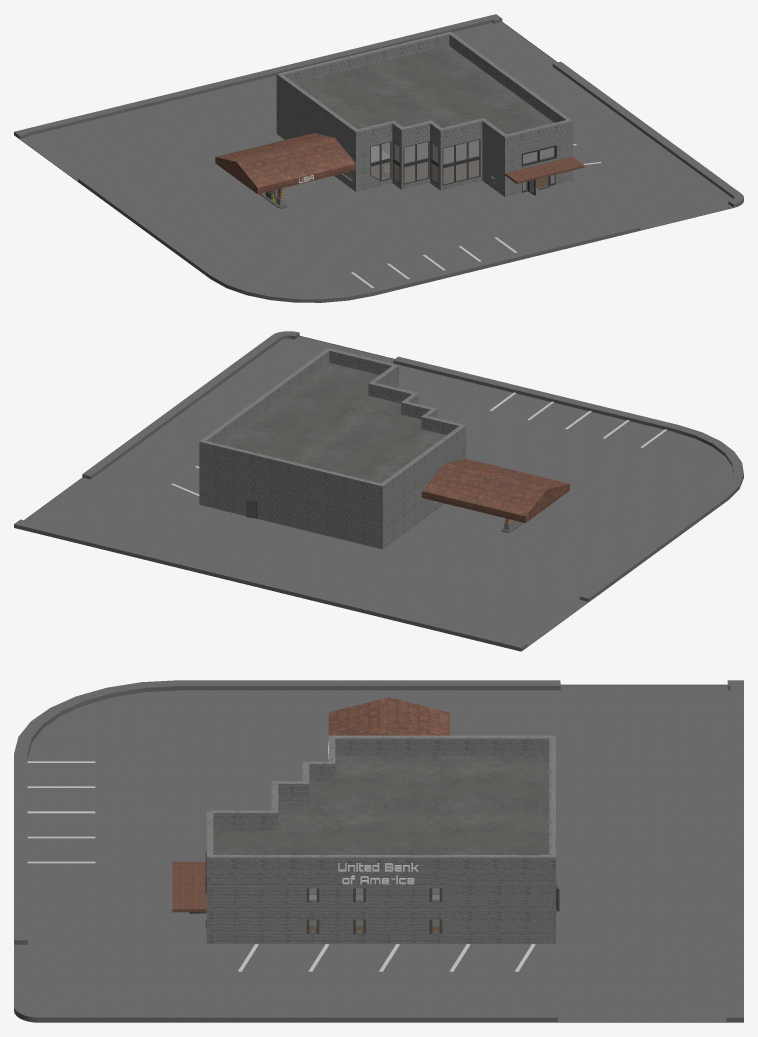
File: BankBuilding.FBX
3 renders of one model, top to bottom at view 1: azimuth 30°, elevation 25°; view 2: azimuth 150°, elevation 25°; view 3: azimuth 270°, elevation 25°, orthographic. The views are drawn at different scales.
Parts seen in each view (by area): view 1: ground, Building, Glass1, WindowFrame1, Carpet, GfloorCeiling; view 2: ground, Building; view 3: ground, Building, Logo2.
Boxes of the visible parts, box(x1,y1,x2,y2) form: ground: box(14, 14, 743, 302); Building: box(215, 31, 584, 196); Glass1: box(371, 140, 479, 184); WindowFrame1: box(370, 139, 480, 185); Carpet: box(346, 160, 553, 189); GfloorCeiling: box(377, 140, 553, 163); ground: box(14, 331, 743, 651); Building: box(199, 347, 569, 549); ground: box(14, 680, 743, 1022); Building: box(172, 697, 555, 943); Logo2: box(338, 863, 418, 884).
Size of what is drawn, in the model's own units: 5587 by 850 by 5108.
